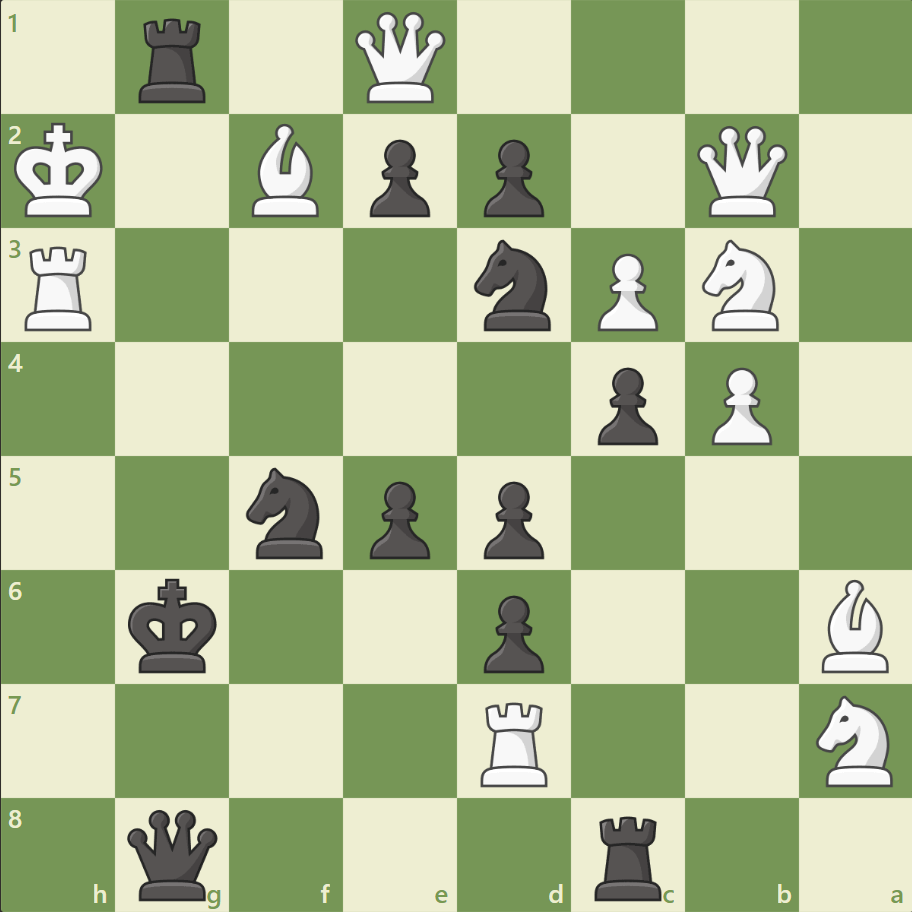B: (812, 574, 896, 676), (244, 120, 328, 222)
K: (11, 117, 111, 225)
N: (806, 688, 903, 791), (692, 234, 789, 337)
P: (701, 359, 776, 450), (588, 246, 662, 337)
Q: (691, 122, 790, 222), (351, 9, 450, 108)
R: (473, 693, 556, 790), (19, 239, 102, 336)
k: (124, 571, 224, 679)
n: (238, 461, 335, 564), (465, 234, 562, 337)
p: (474, 586, 549, 677), (474, 473, 549, 564), (474, 132, 549, 223), (361, 473, 435, 564), (588, 359, 662, 450), (361, 132, 435, 223)
q: (124, 804, 223, 903)
r: (587, 806, 670, 904), (133, 12, 215, 109)
